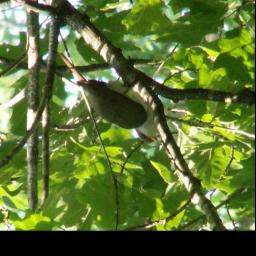Cuckoo: (56, 51, 165, 146)
